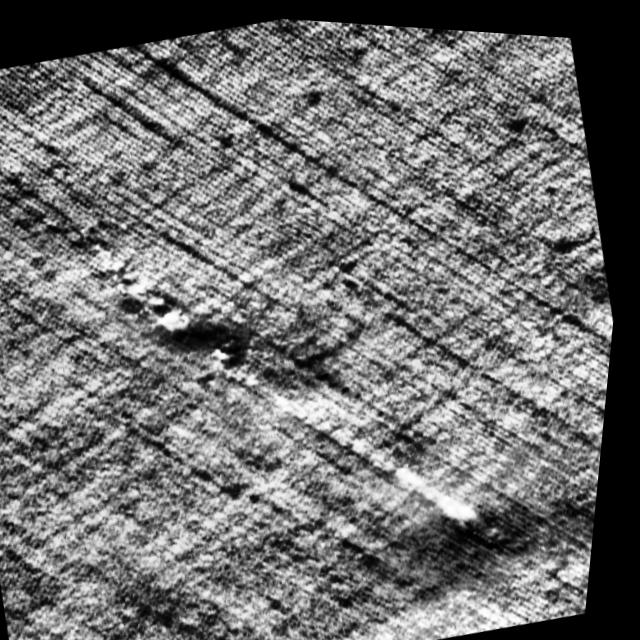Stitch: (35, 126, 568, 639)
